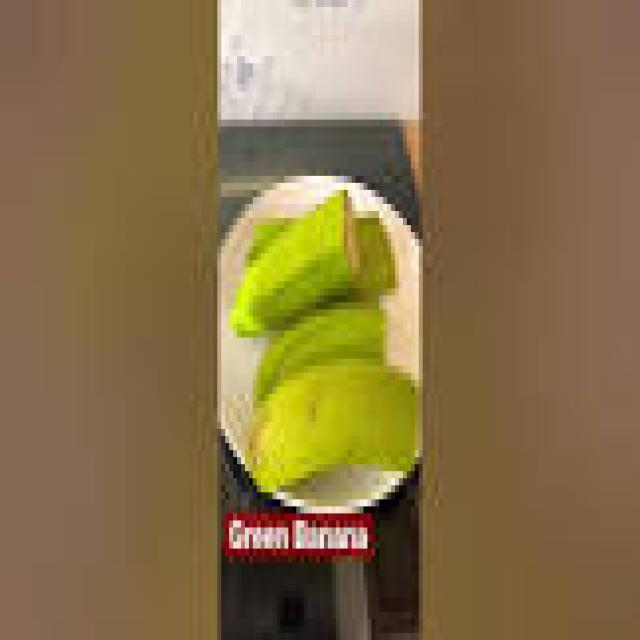banana: (249, 359, 418, 492), (230, 190, 359, 337), (253, 303, 387, 400), (356, 211, 395, 295)
